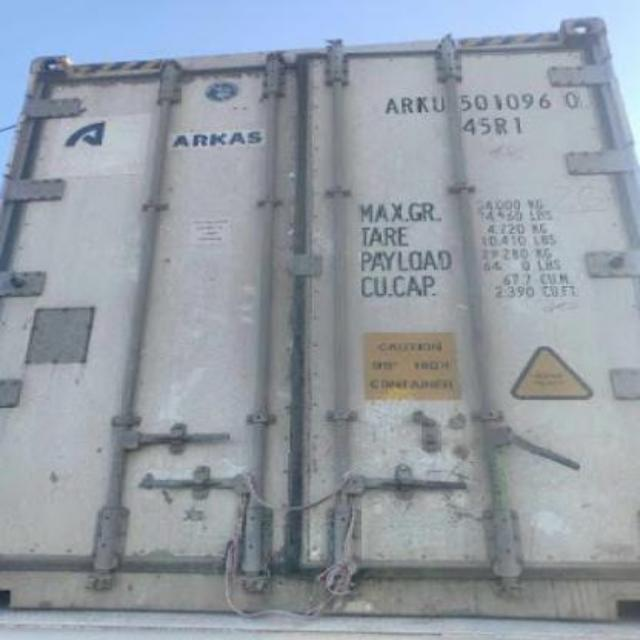0: (562, 92, 582, 112), (472, 92, 490, 112), (502, 93, 520, 111)
1: (492, 91, 504, 112)
5: (456, 93, 474, 113)
6: (538, 90, 556, 114)
9: (522, 91, 536, 112)
A: (386, 94, 399, 116)
K: (414, 94, 432, 116)
R: (400, 94, 416, 116)
U: (428, 92, 448, 115)
